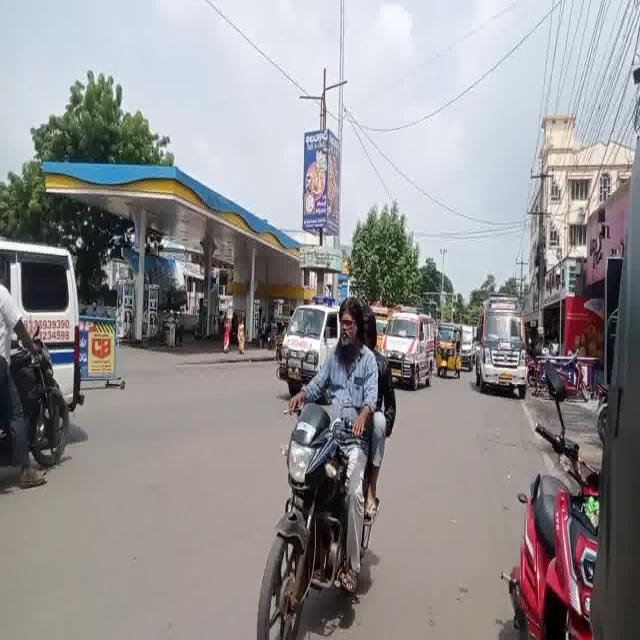ambulance: (18, 259, 95, 373), (478, 290, 525, 410), (388, 294, 432, 413), (269, 294, 334, 366), (462, 319, 476, 373)
